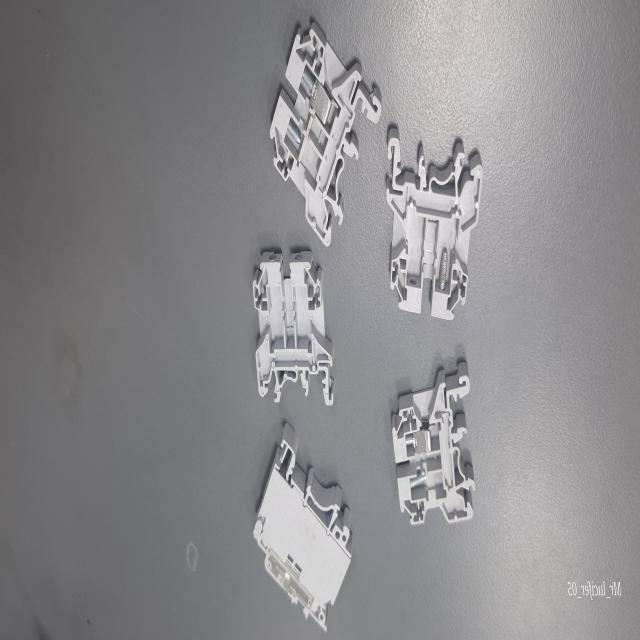Reject: (268, 15, 382, 244), (384, 126, 484, 318), (392, 360, 474, 532), (254, 246, 336, 406)
